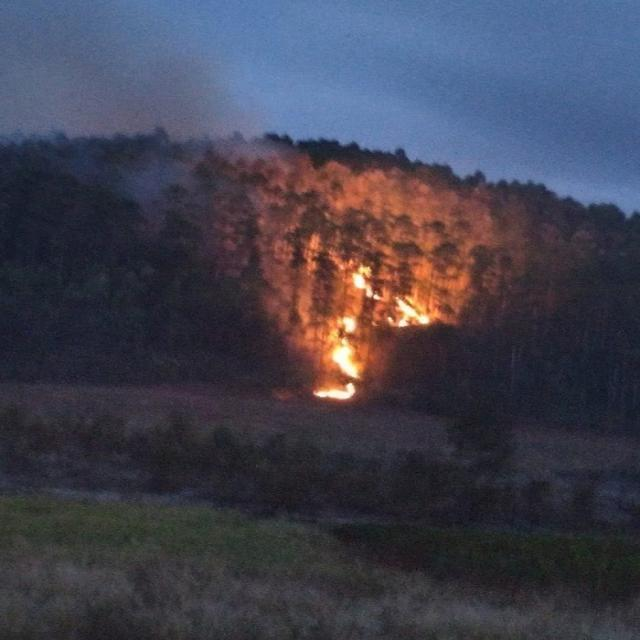Fire: (385, 296, 432, 330), (329, 338, 362, 381), (351, 263, 382, 299), (312, 384, 354, 401), (336, 316, 359, 332)
Smoke: (0, 0, 206, 138), (122, 140, 214, 216), (209, 98, 281, 166)
